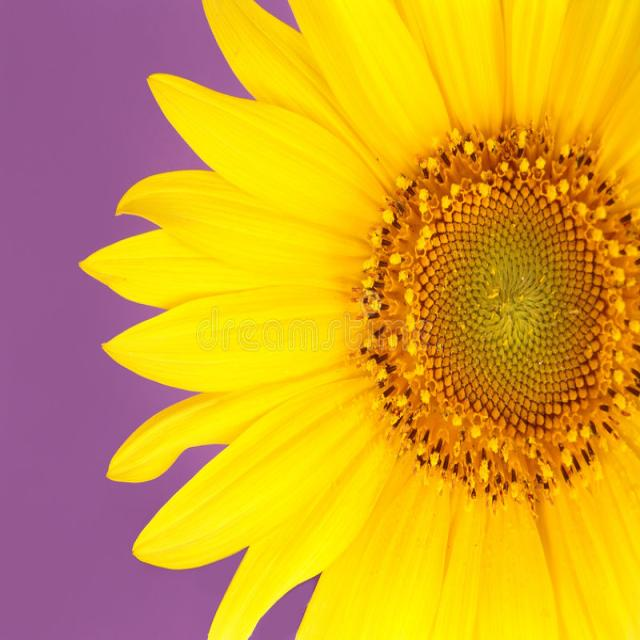sunflower: (98, 2, 640, 640)
